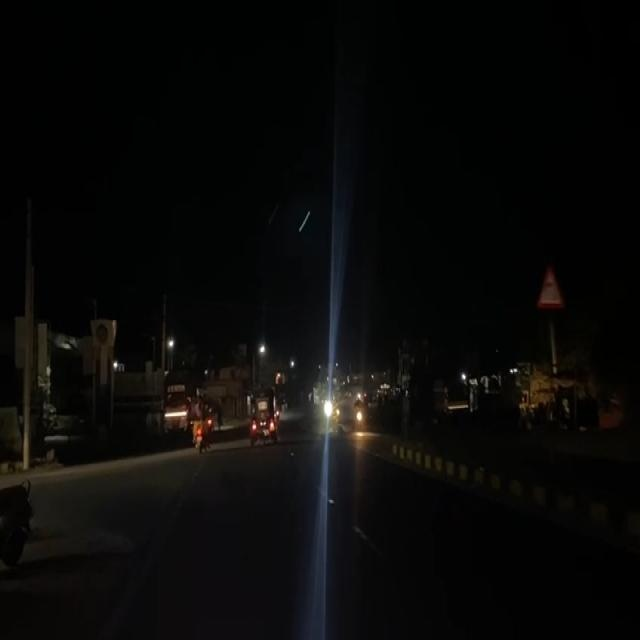bien_nguy_hiem: (536, 266, 564, 313)
